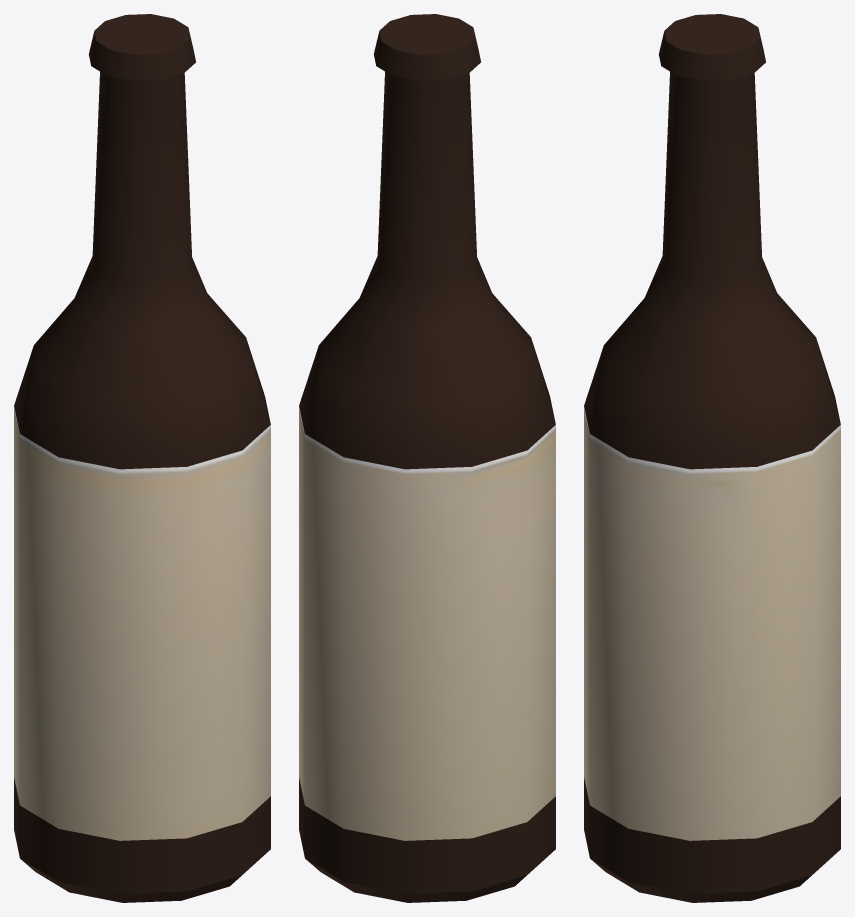
Rendered from SM_drink_beer_01.fbx.
3 views of the same model, side by side, from view 1: azimuth 30°, elevation 25°; view 2: azimuth 150°, elevation 25°; view 3: azimuth 270°, elevation 25° (orthographic).
Visible parts, largest first — view 1: Object32258; view 2: Object32258; view 3: Object32258.
Boxes of the visible parts, bbox=[...] form: Object32258: bbox=[14, 14, 270, 902]; Object32258: bbox=[299, 14, 555, 902]; Object32258: bbox=[584, 14, 840, 902].
Size of the model in its own units: 8.54 by 30.12 by 8.54.
